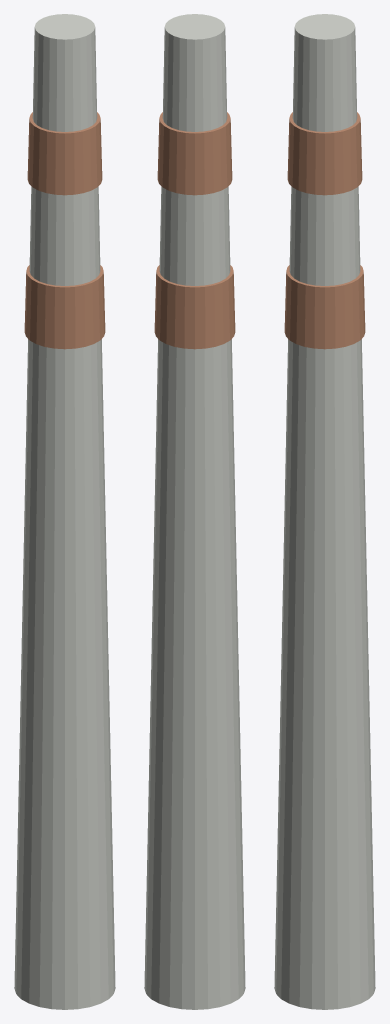
3 views of the same model, side by side, from view 1: azimuth 90°, elevation 25°; view 2: azimuth 150°, elevation 25°; view 3: azimuth 270°, elevation 25° (orthographic).
Size of the model in its own units: 6 by 63 by 6.
